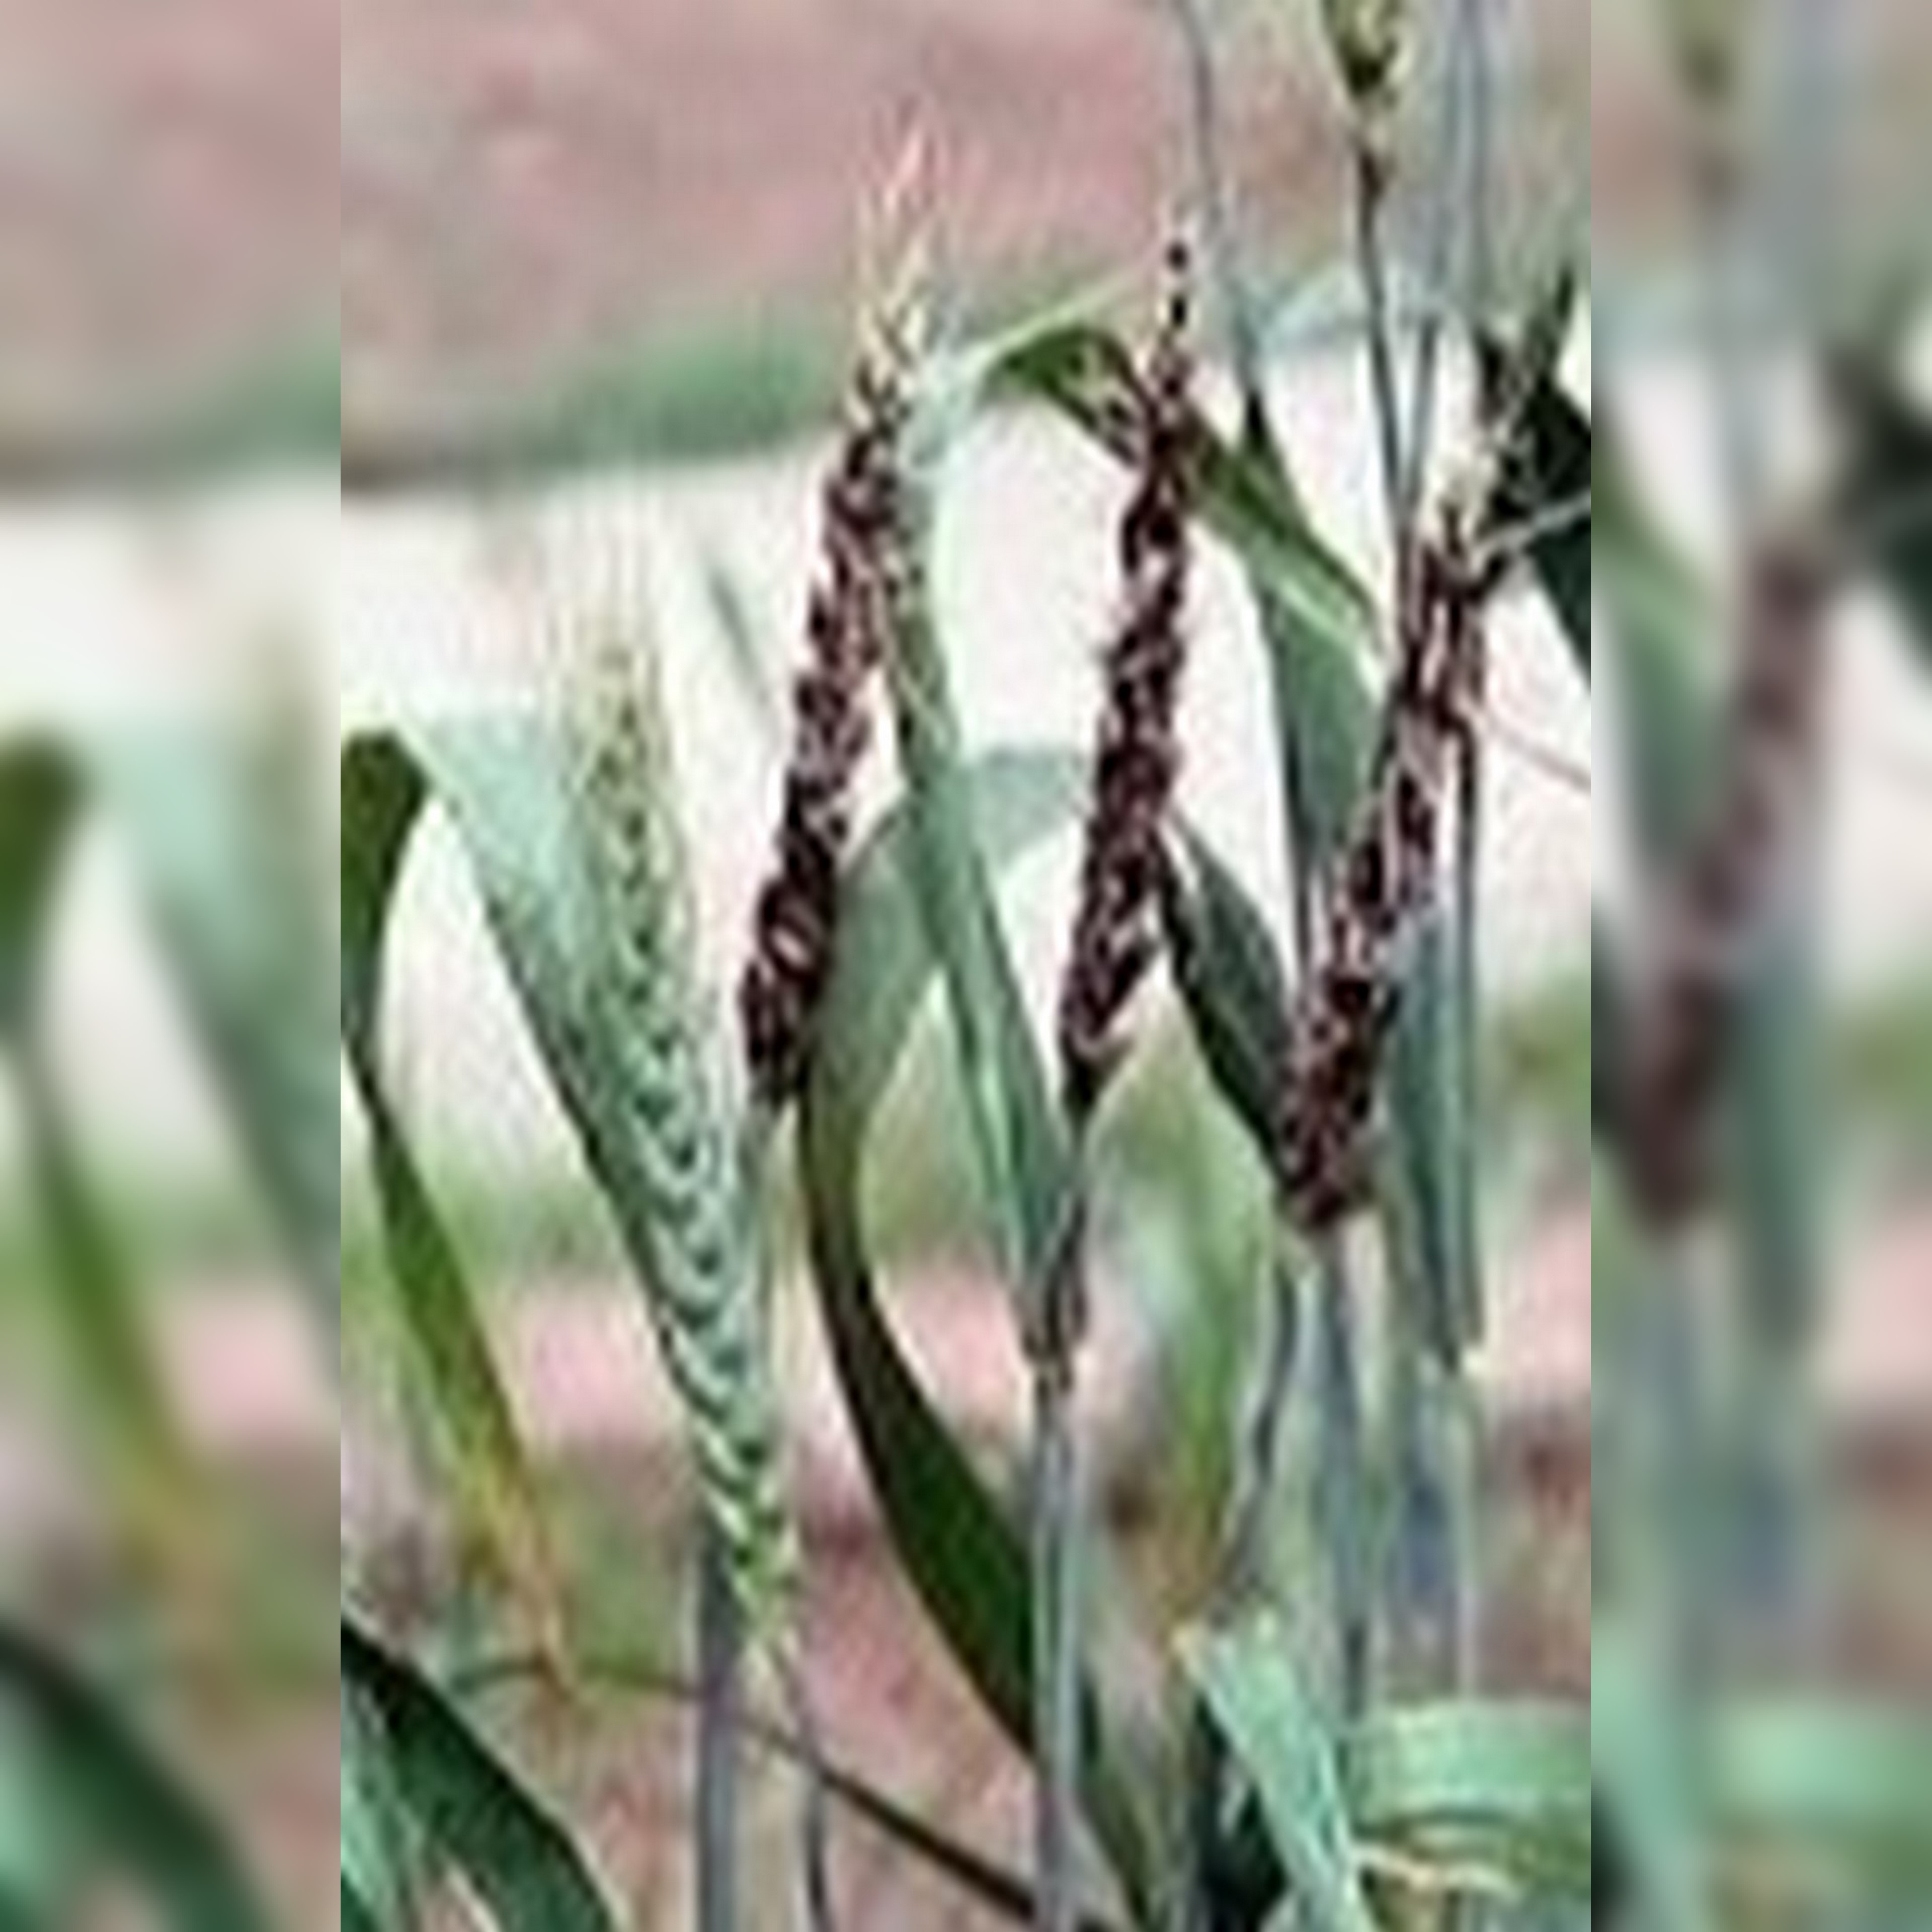Wheat Loose Smut: (711, 276, 1513, 1240)
